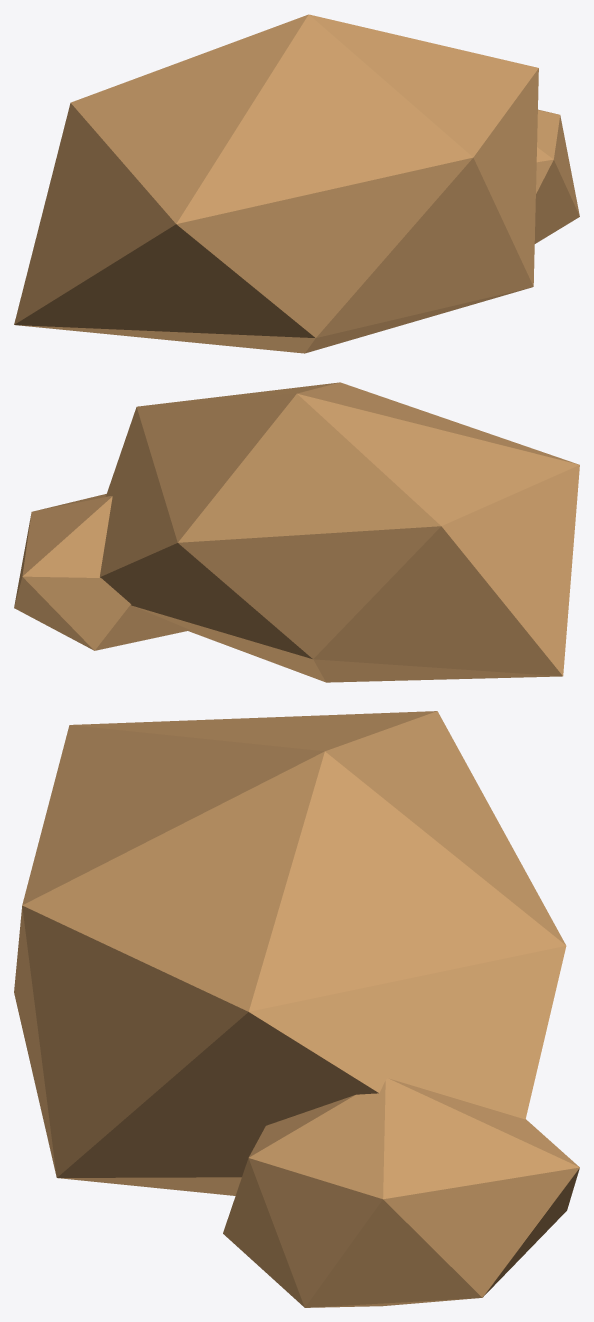
Rendered from dune_rock.fbx.
The picture shows the model from 3 angles, top to bottom: view 1: azimuth 30°, elevation 25°; view 2: azimuth 150°, elevation 25°; view 3: azimuth 270°, elevation 25°; orthographic projection. The views are drawn at different scales.
Visible parts, largest first — view 1: dune_rock; view 2: dune_rock; view 3: dune_rock.
Part boxes in pixels (x1,y1,x2,y2): dune_rock: (14,14,579,353); dune_rock: (14,382,579,682); dune_rock: (14,711,579,1307).
Size of the model in its own units: 2.41 by 1.32 by 1.47.
